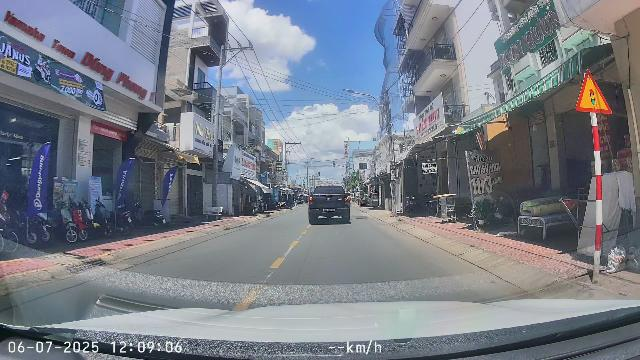209-giao-nhau-co-tin-hieu-den: (577, 70, 612, 115)
